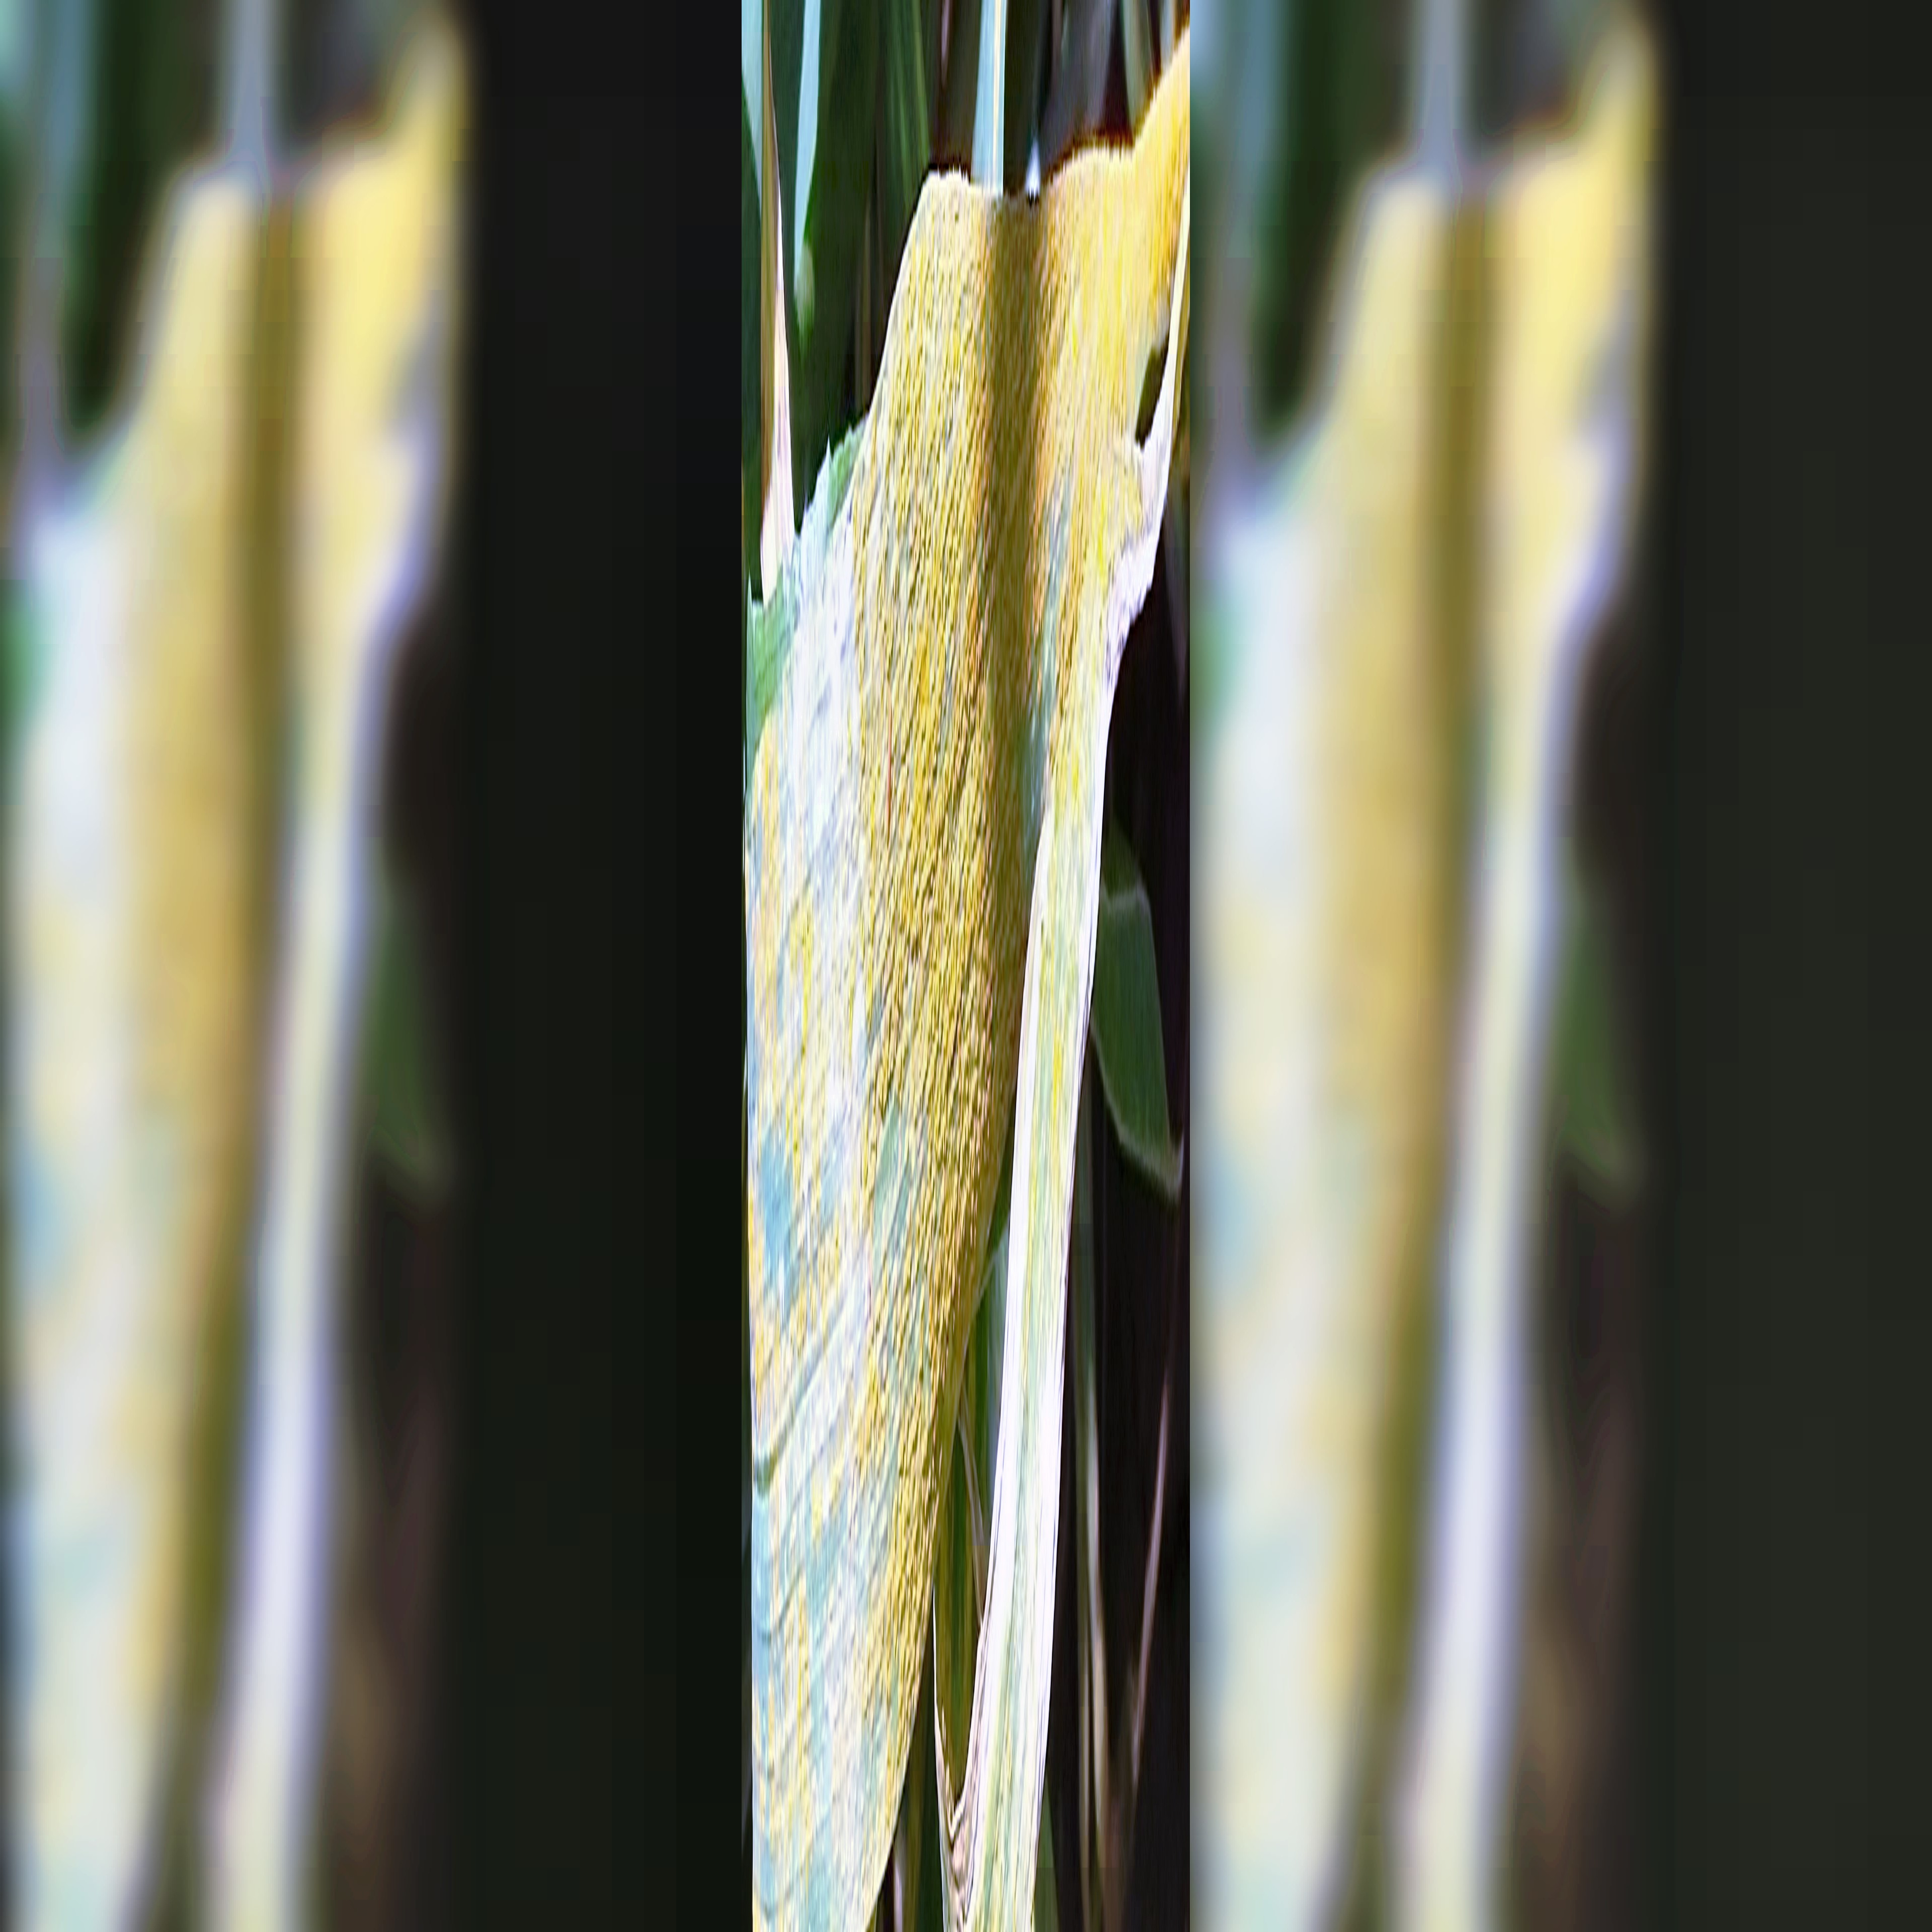Leaf Rust: (775, 262, 1088, 1445)
